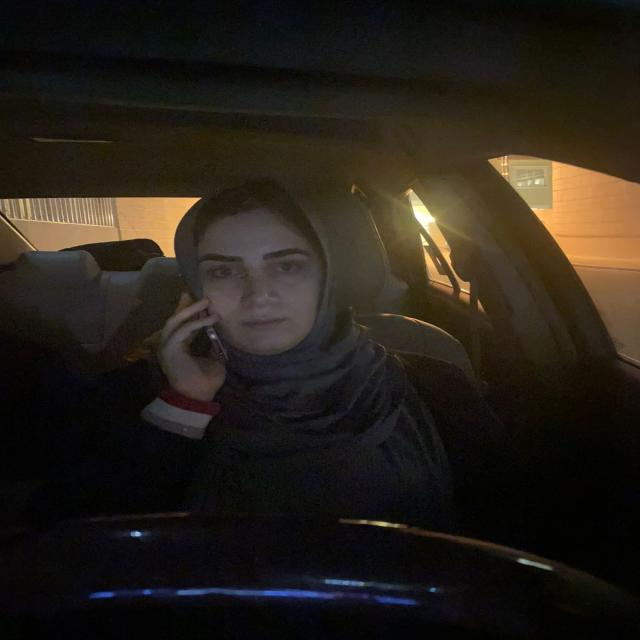phone: (184, 286, 231, 368)
